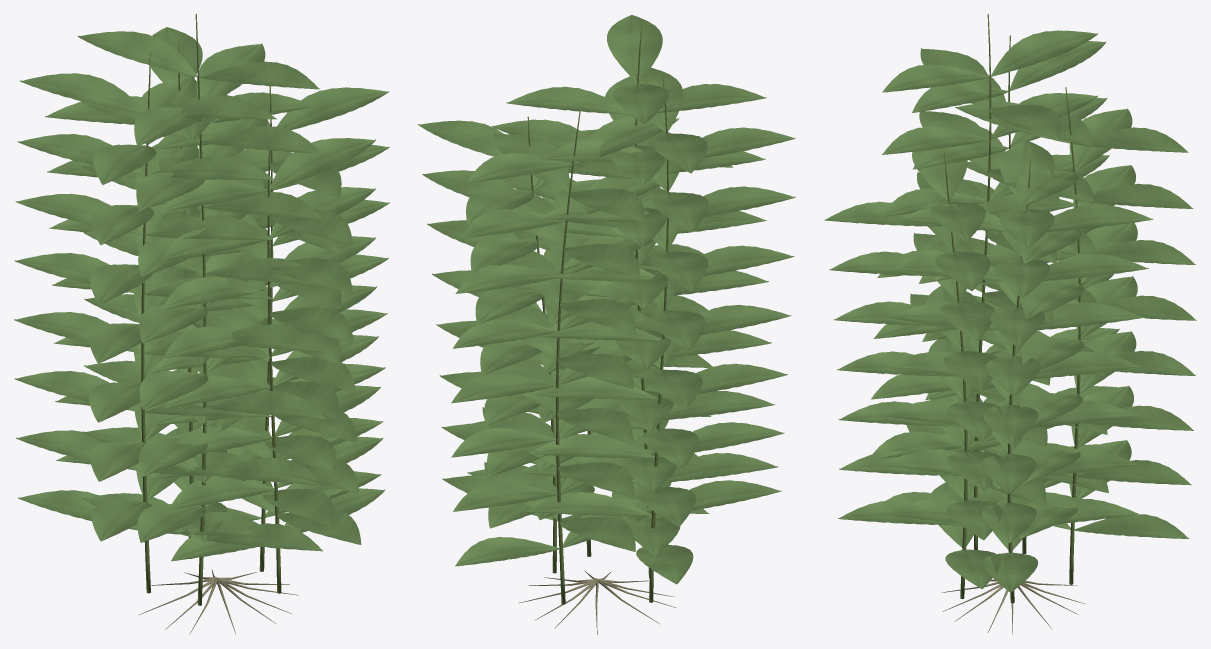
The model's file is corymbosa-desktop.glb.
3 renders of one model, left to right at view 1: azimuth 30°, elevation 25°; view 2: azimuth 150°, elevation 25°; view 3: azimuth 270°, elevation 25°, orthographic. The views are drawn at different scales.
Visible parts, largest first — view 1: opposite-leaf, branching-stem, anchoring-root; view 2: opposite-leaf, branching-stem, anchoring-root; view 3: opposite-leaf, branching-stem, anchoring-root.
Boxes of the visible parts, <box> form: opposite-leaf: <box>14,27,389,561</box>; branching-stem: <box>141,14,281,605</box>; anchoring-root: <box>138,569,298,634</box>; opposite-leaf: <box>418,15,795,584</box>; branching-stem: <box>527,21,668,604</box>; anchoring-root: <box>519,571,676,634</box>; opposite-leaf: <box>824,30,1196,592</box>; branching-stem: <box>944,14,1080,603</box>; anchoring-root: <box>942,579,1084,634</box>.
Bounding box in the file's own units: 0.6085 × 1.03 × 0.609.
